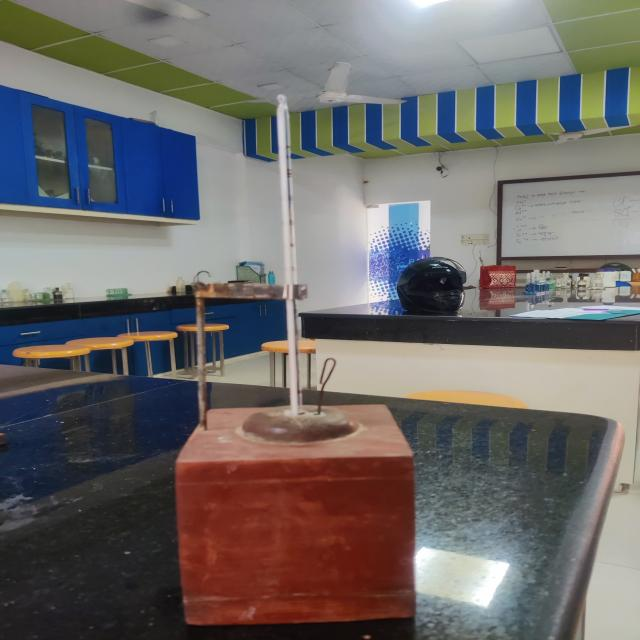Calorimeter: (150, 85, 487, 632)
